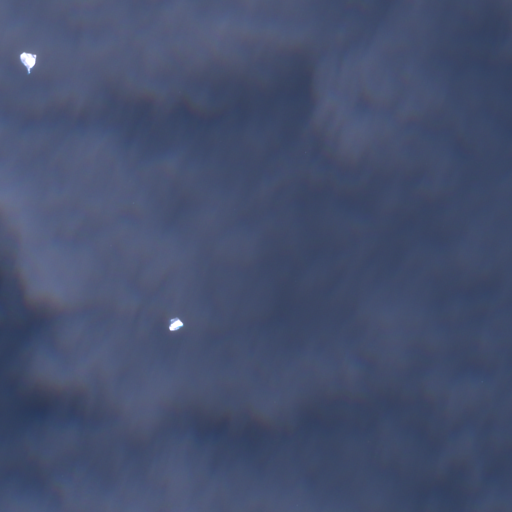Iceberg: (20, 52, 36, 73), (169, 317, 183, 330)
